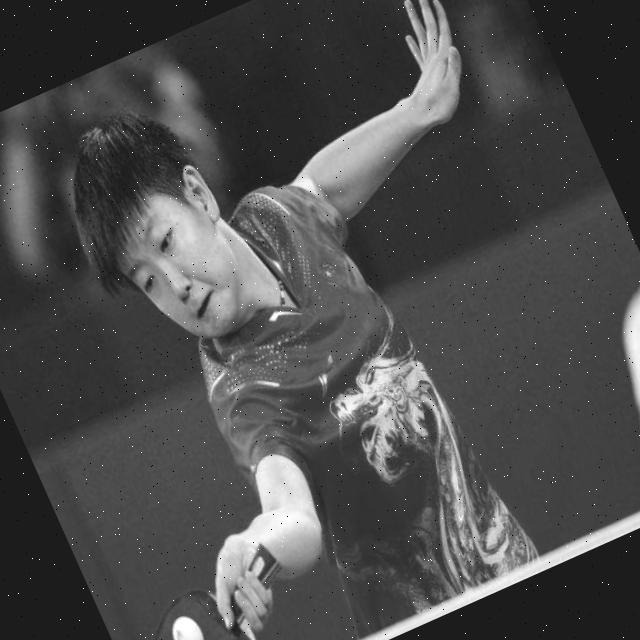ping-pong-ball: (162, 605, 212, 640)
